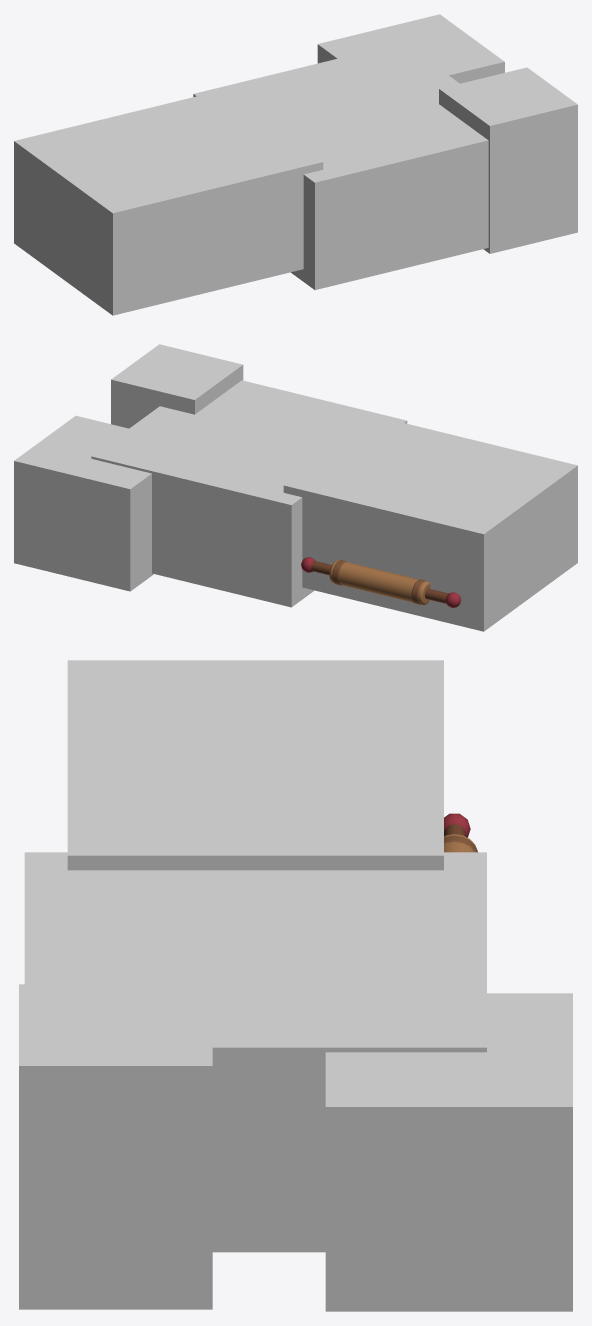
Rendered from pie.glb.
3 renders of one model, top to bottom at view 1: azimuth 30°, elevation 25°; view 2: azimuth 150°, elevation 25°; view 3: azimuth 270°, elevation 25°, orthographic. The views are drawn at different scales.
Visible parts, largest first — view 1: hit_dough__geo, hit_pie__geo, hit_cream__geo, hit_fillbowl__geo; view 2: hit_dough__geo, hit_pie__geo, hit_fillbowl__geo, hit_cream__geo, pin__geo; view 3: hit_pie__geo, hit_dough__geo, hit_fillbowl__geo, hit_cream__geo, pin__geo.
Boxes of the visible parts, x1,y1,x2,y2 form: hit_dough__geo: (14, 89, 323, 315); hit_pie__geo: (193, 42, 488, 289); hit_cream__geo: (439, 67, 577, 253); hit_fillbowl__geo: (317, 14, 504, 83); hit_dough__geo: (283, 416, 577, 631); hit_pie__geo: (91, 380, 407, 607); hit_fillbowl__geo: (14, 415, 153, 591); hit_cream__geo: (111, 344, 243, 428); pin__geo: (301, 557, 460, 607); hit_pie__geo: (24, 852, 486, 1252); hit_dough__geo: (67, 660, 443, 870); hit_fillbowl__geo: (325, 993, 572, 1311); hit_cream__geo: (19, 984, 212, 1309); pin__geo: (444, 813, 477, 852).
Size of the model in its own units: 1.88 by 0.5 by 1.03.
